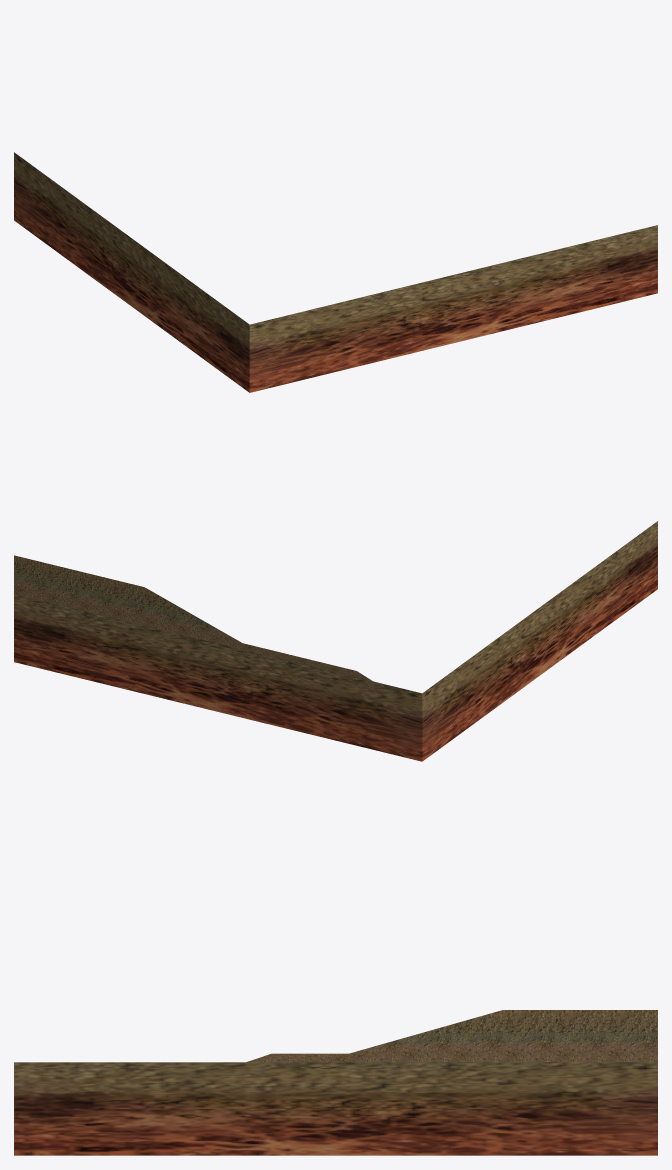
3 renders of one model, top to bottom at view 1: azimuth 30°, elevation 25°; view 2: azimuth 150°, elevation 25°; view 3: azimuth 270°, elevation 25°, orthographic. The views are drawn at different scales.
Visible parts, largest first — view 1: Joint_0_Object_1, Joint_0_Object_2; view 2: Joint_0_Object_1, Joint_0_Object_2, Joint_0_Object_0; view 3: Joint_0_Object_2, Joint_0_Object_0.
Part boxes in pixels (<box>): Joint_0_Object_1: <box>249,225,657,392</box>; Joint_0_Object_2: <box>14,152,249,392</box>; Joint_0_Object_1: <box>14,594,422,761</box>; Joint_0_Object_2: <box>422,521,657,761</box>; Joint_0_Object_0: <box>14,555,372,681</box>; Joint_0_Object_2: <box>14,1062,657,1155</box>; Joint_0_Object_0: <box>246,1010,657,1062</box>.
Size of the model in its own units: 10000 by 2500 by 10000.
2 materials, 2 textured.
